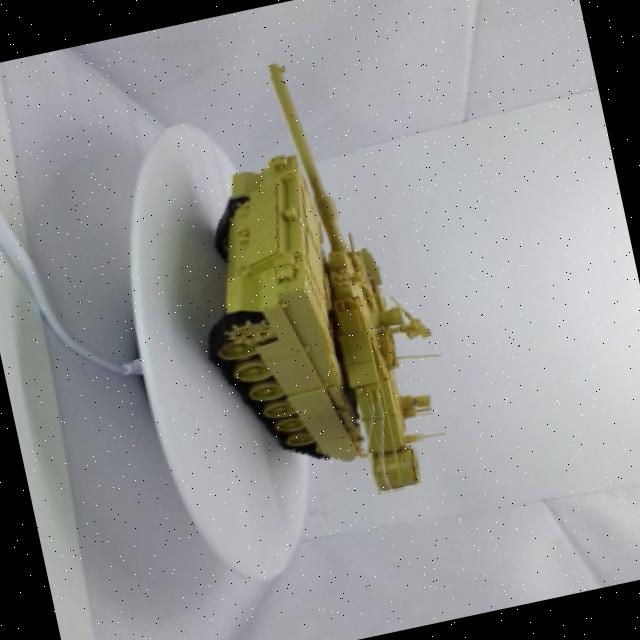korea tank: (140, 21, 482, 538)
